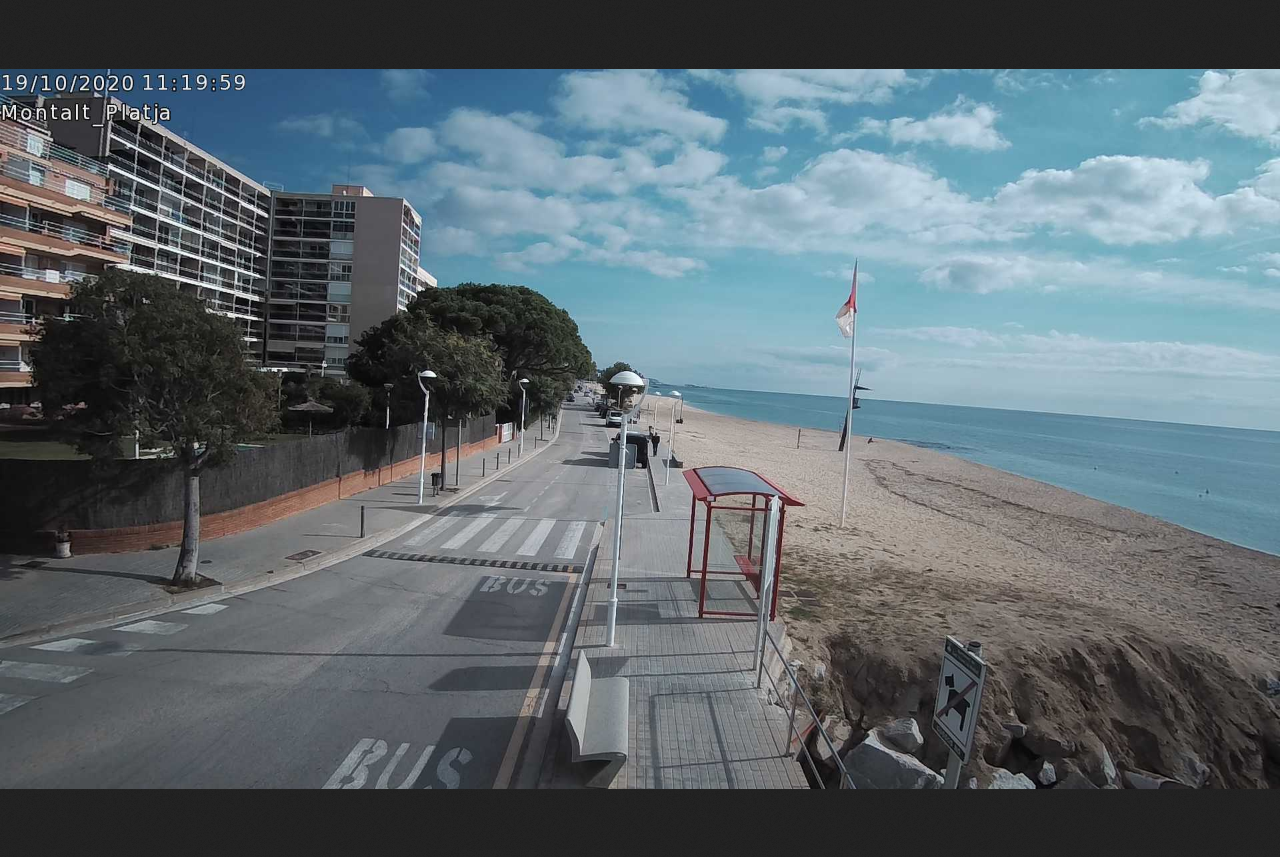no: (834, 266, 859, 338)
